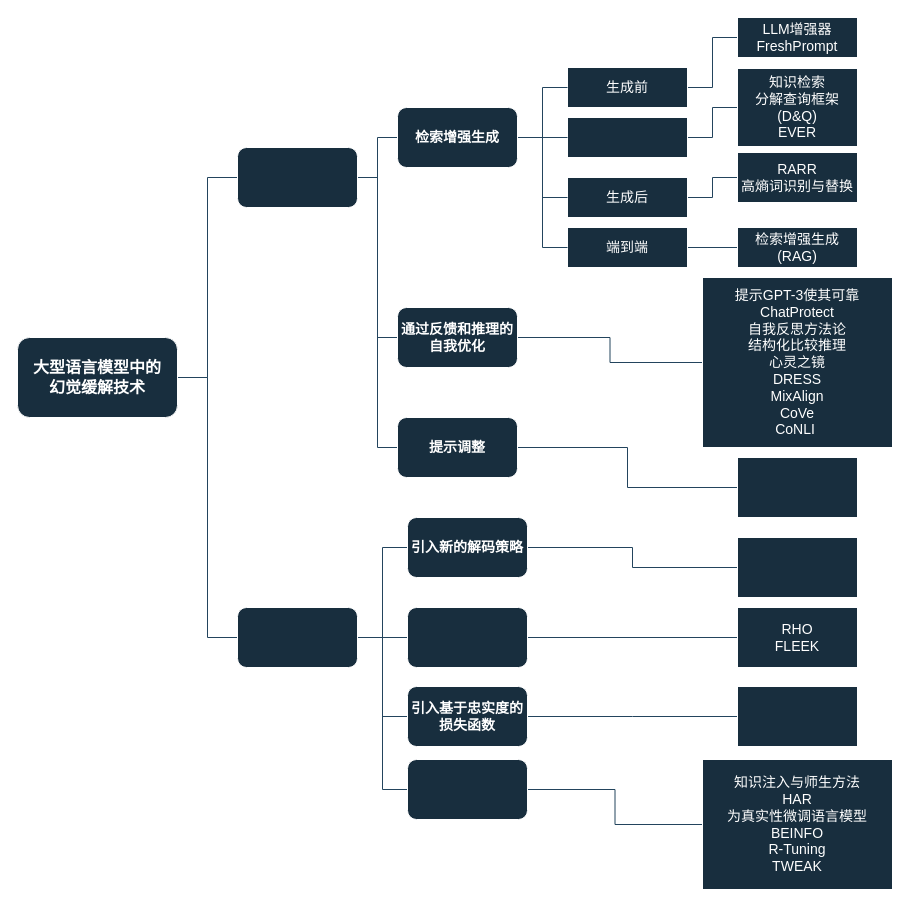
Image size: 910x907. Some labels were removed from this diagram. The centre of each missing label's shape, as x and y in pixels:
CAD DoLa 推理时干预 (ITI): the point at 797,567
THAM框架 损失加权方法: the point at 797,716
UPRISE SynTra: the point at 797,487
提示工程: the point at 297,177
模型开发: the point at 297,637
生成中: the point at 627,137
监督微调: the point at 467,789
知识图谱的利用: the point at 467,637
